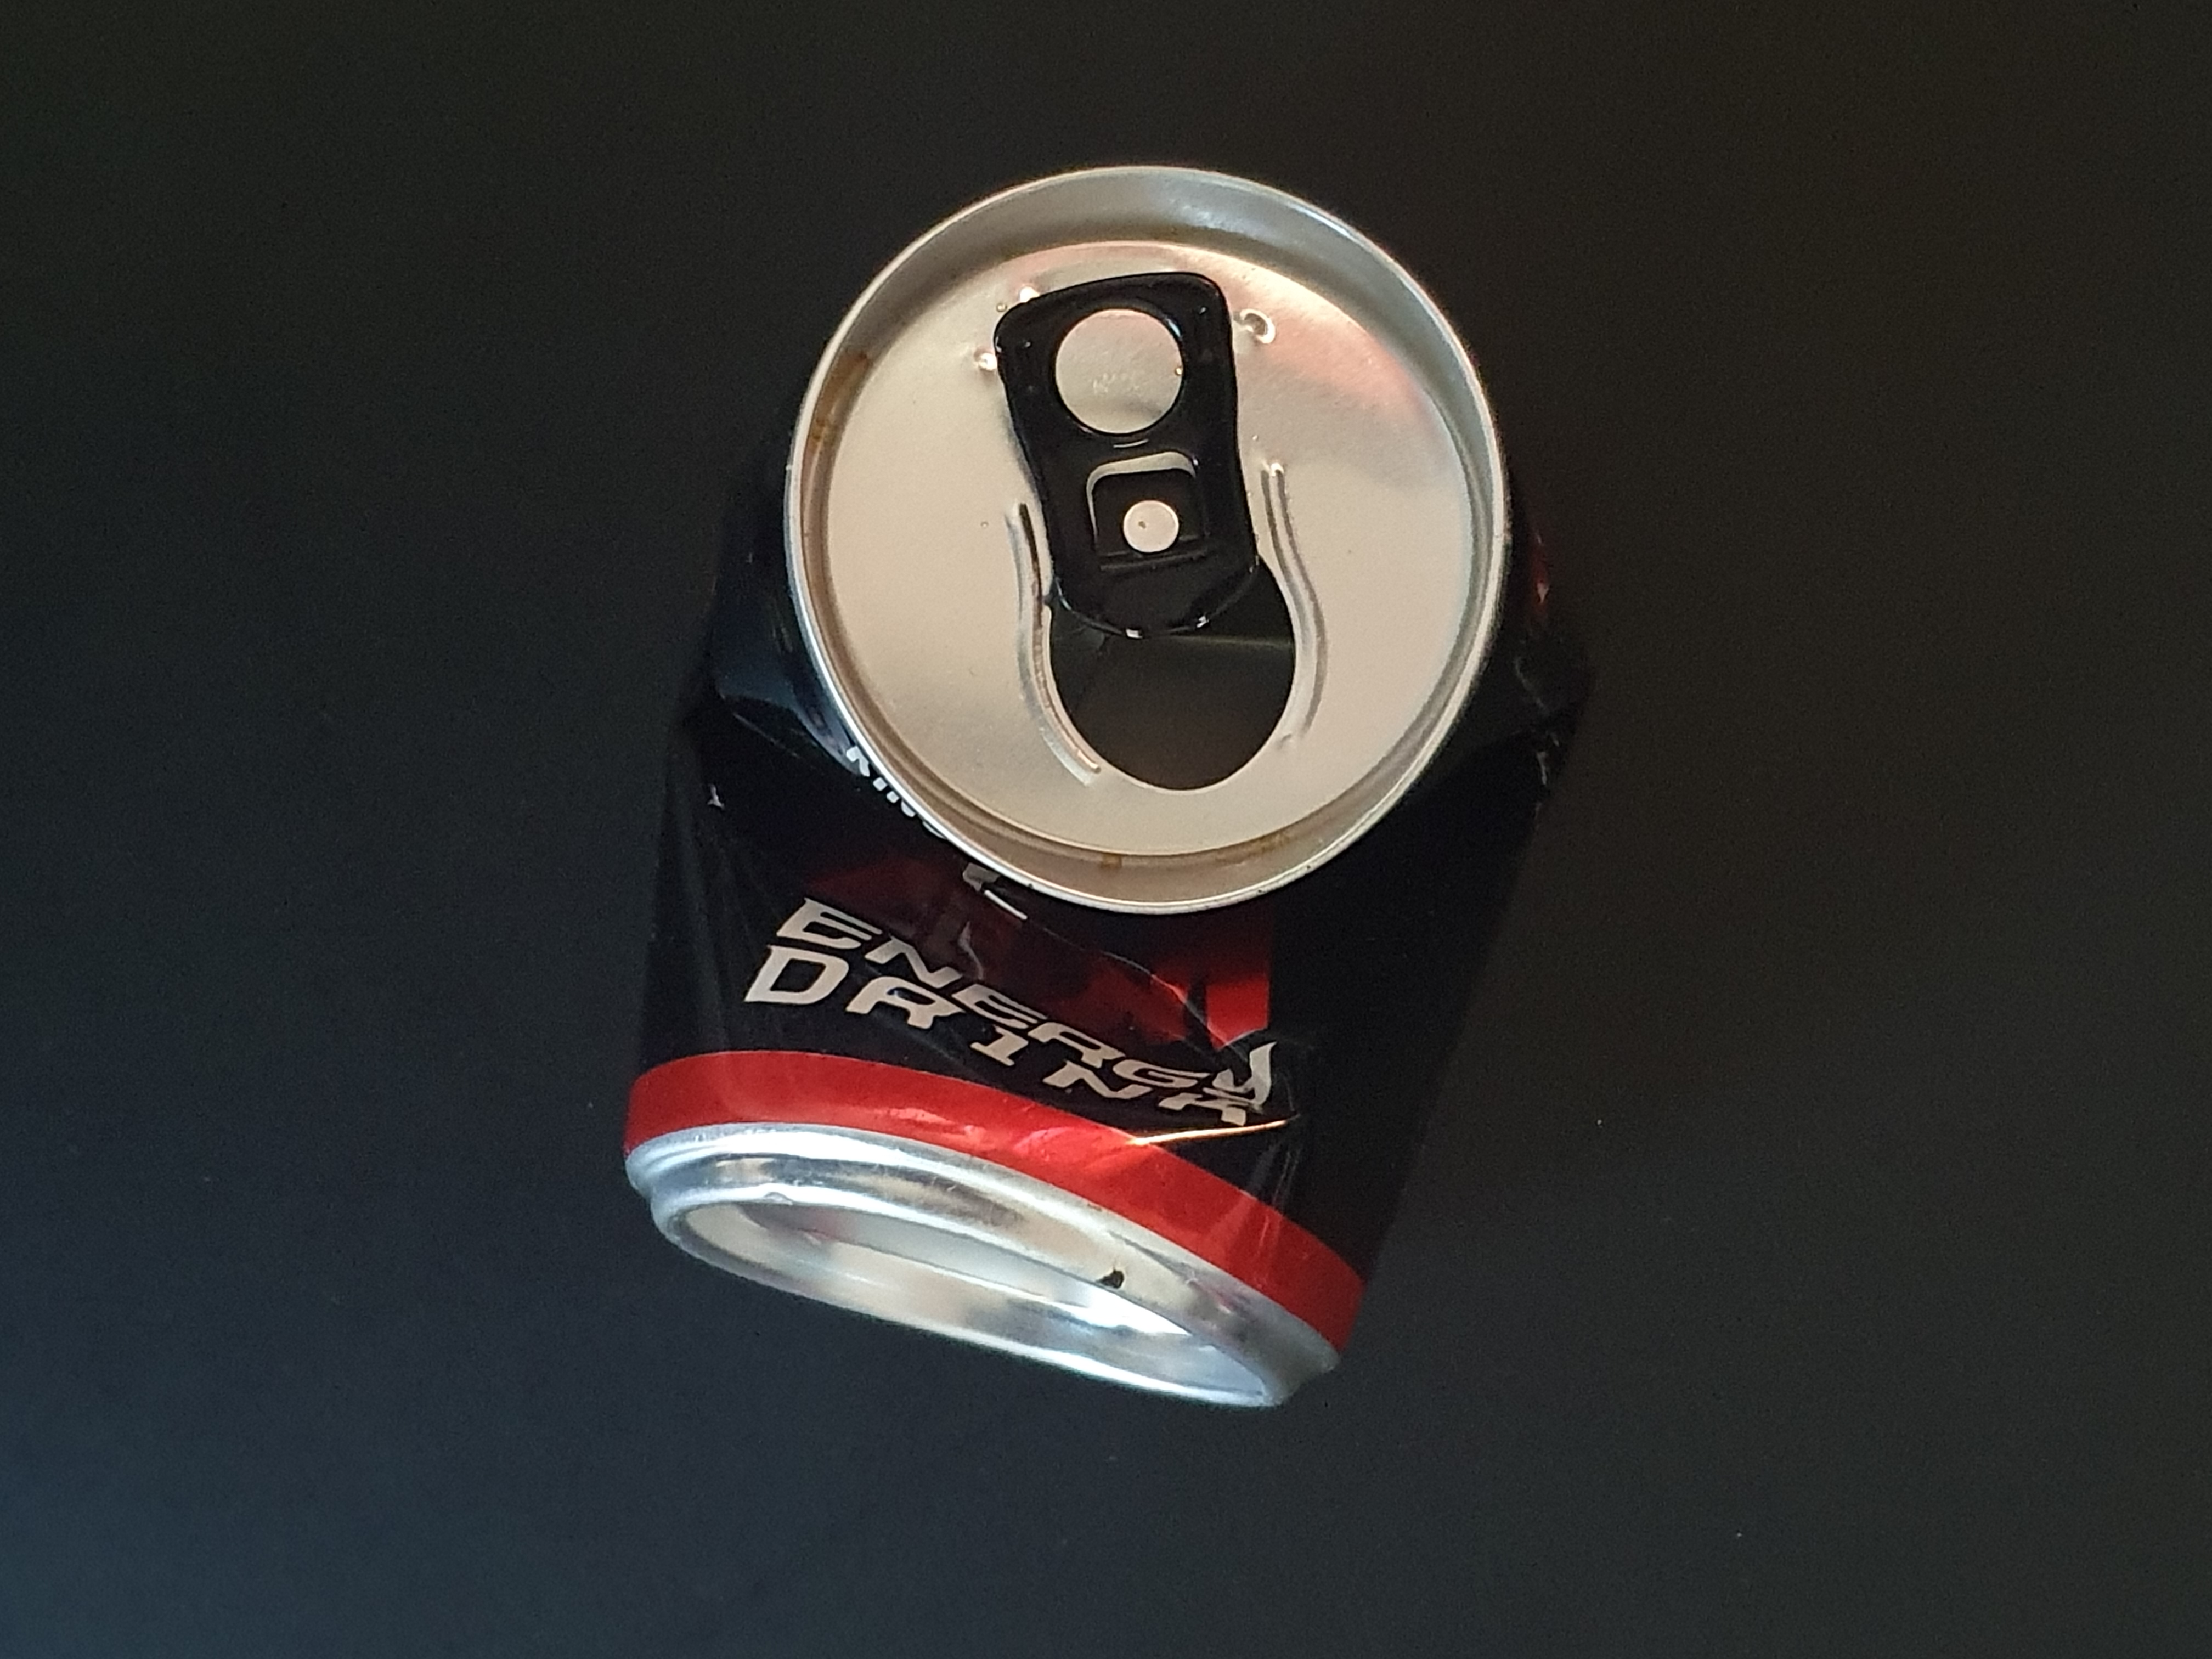metal: (589, 108, 1611, 1466)
